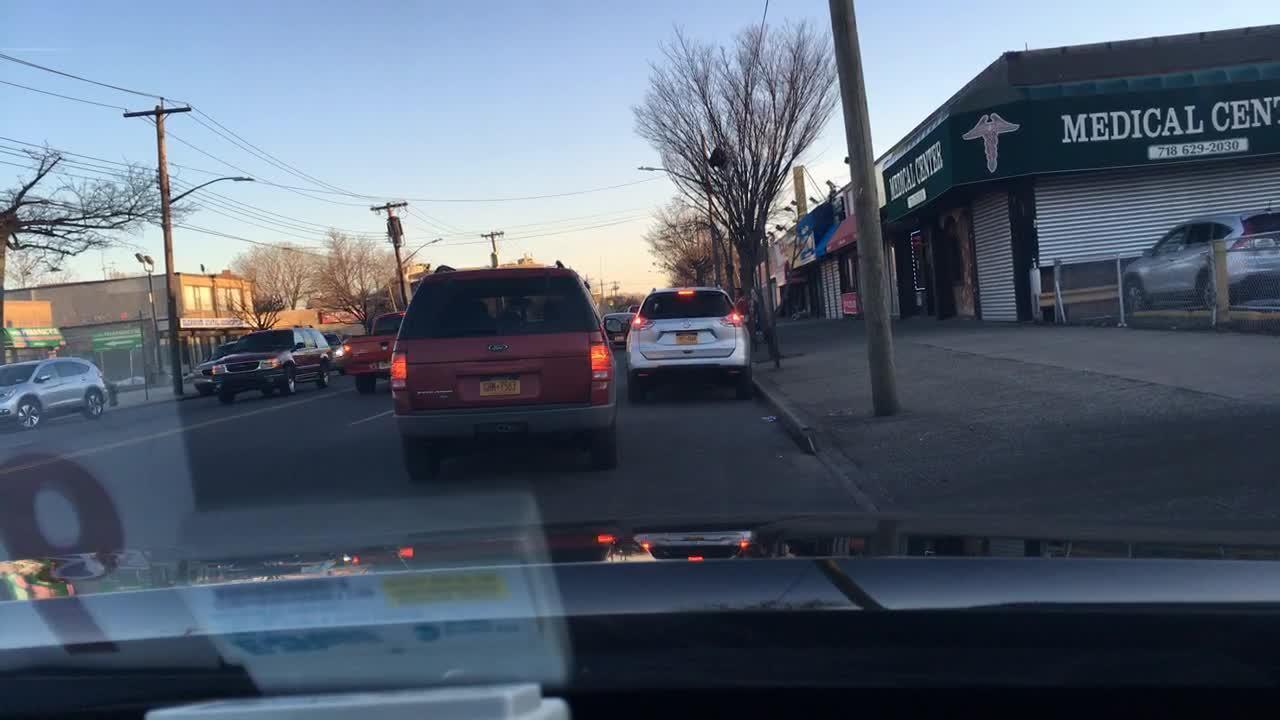ford: (487, 341, 510, 354)
